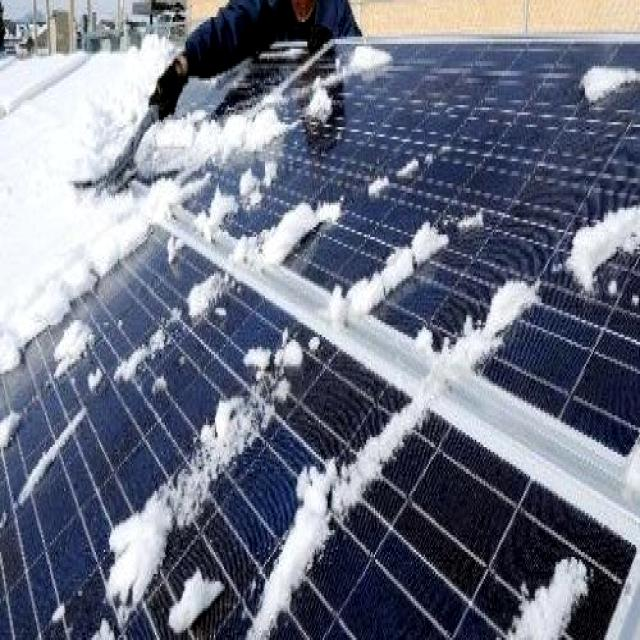panel: (111, 308, 326, 640), (365, 164, 480, 329), (178, 70, 284, 222), (252, 124, 344, 292), (90, 208, 240, 308), (0, 295, 81, 463), (451, 256, 544, 390), (512, 515, 600, 640), (556, 196, 640, 315), (308, 19, 396, 131), (338, 402, 441, 492), (366, 130, 432, 214), (582, 49, 640, 112)
